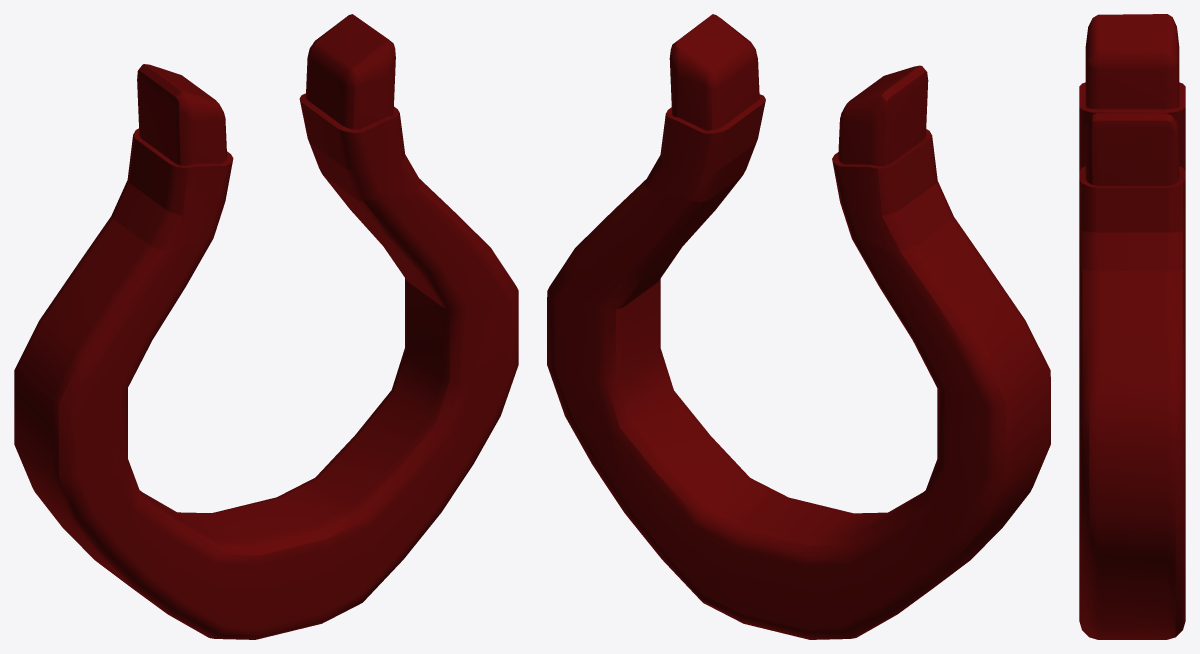
The model's file is aimantrouge.fbx.
3 views of the same model, side by side, from view 1: azimuth 30°, elevation 25°; view 2: azimuth 150°, elevation 25°; view 3: azimuth 270°, elevation 25° (orthographic). The views are drawn at different scales.
Parts seen in each view (by area): view 1: pCube8; view 2: pCube8; view 3: pCube8.
Boxes of the visible parts, x1,y1,x2,y2 form: pCube8: [14, 14, 518, 639]; pCube8: [547, 14, 1050, 639]; pCube8: [1079, 14, 1185, 639].
Size of the model in its own units: 6.83 by 7.95 by 1.39.
